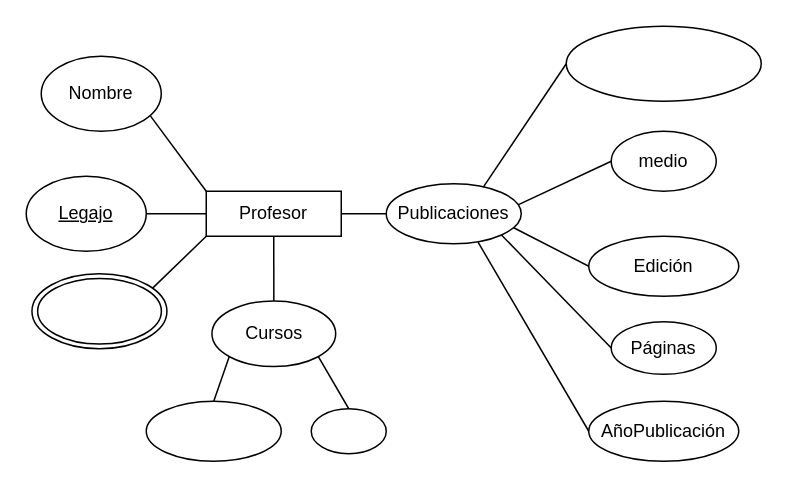
Image size: 788x488. Some labels were removed from this diagram. The centre of each missing label's shape, as x and y in pixels:
Año: (x=348, y=430)
Especialidad: (x=98, y=310)
nombreCurso: (x=213, y=430)
nombrePublicación: (x=663, y=63)
